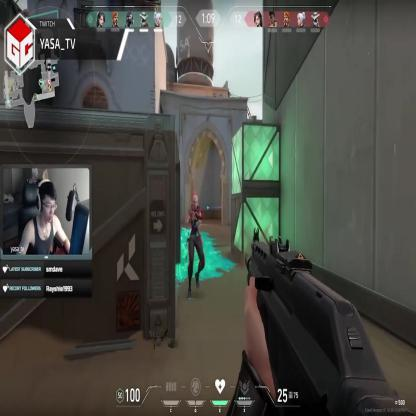enemy: (183, 187, 205, 298)
enemy_head: (192, 192, 198, 210)
